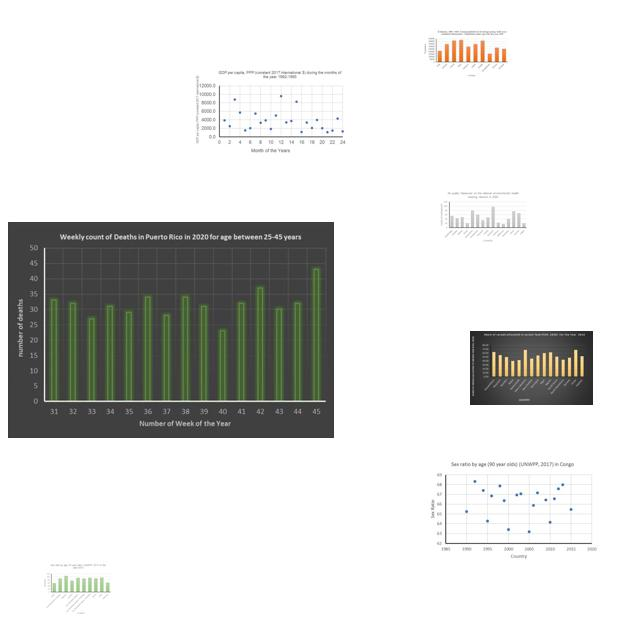Graph: (8, 222, 334, 438), (426, 459, 599, 561), (193, 65, 347, 155), (470, 331, 593, 405), (438, 190, 528, 243), (423, 30, 511, 78), (42, 563, 112, 614)
